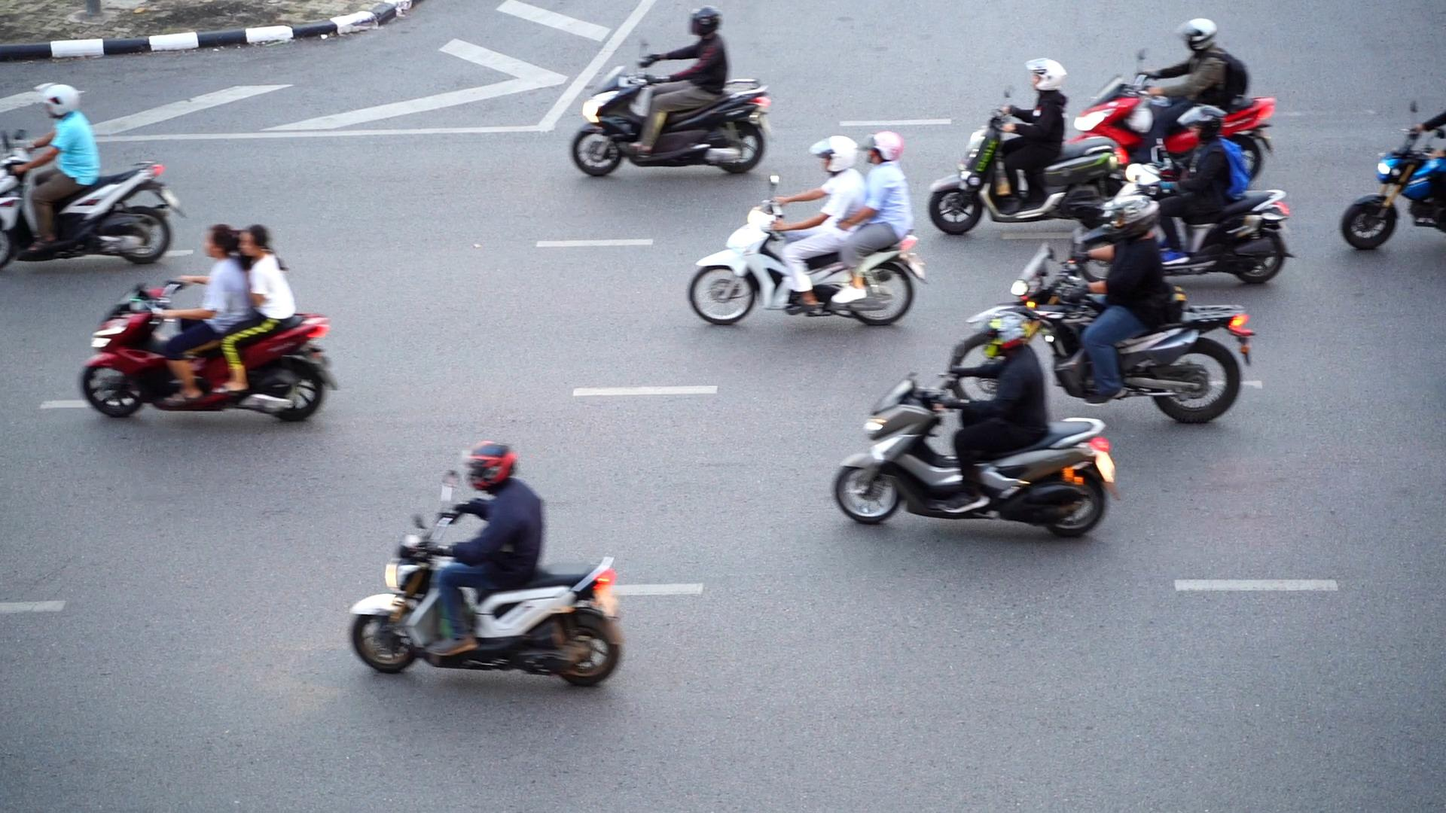driver: (950, 194, 1255, 424), (349, 439, 622, 687), (834, 305, 1120, 539), (82, 221, 338, 422), (687, 130, 928, 326), (1071, 105, 1298, 284), (928, 57, 1125, 235), (1067, 18, 1277, 183), (0, 82, 185, 269), (572, 5, 771, 176), (1342, 100, 1446, 250)
helmet: (964, 304, 1042, 360), (1101, 194, 1161, 243), (461, 441, 516, 491), (1176, 105, 1228, 144), (809, 135, 859, 174), (34, 83, 82, 119), (1173, 18, 1219, 53), (1023, 57, 1067, 93), (859, 129, 903, 165), (687, 5, 722, 36)
no-helmet: (204, 222, 238, 259), (237, 221, 269, 260)
